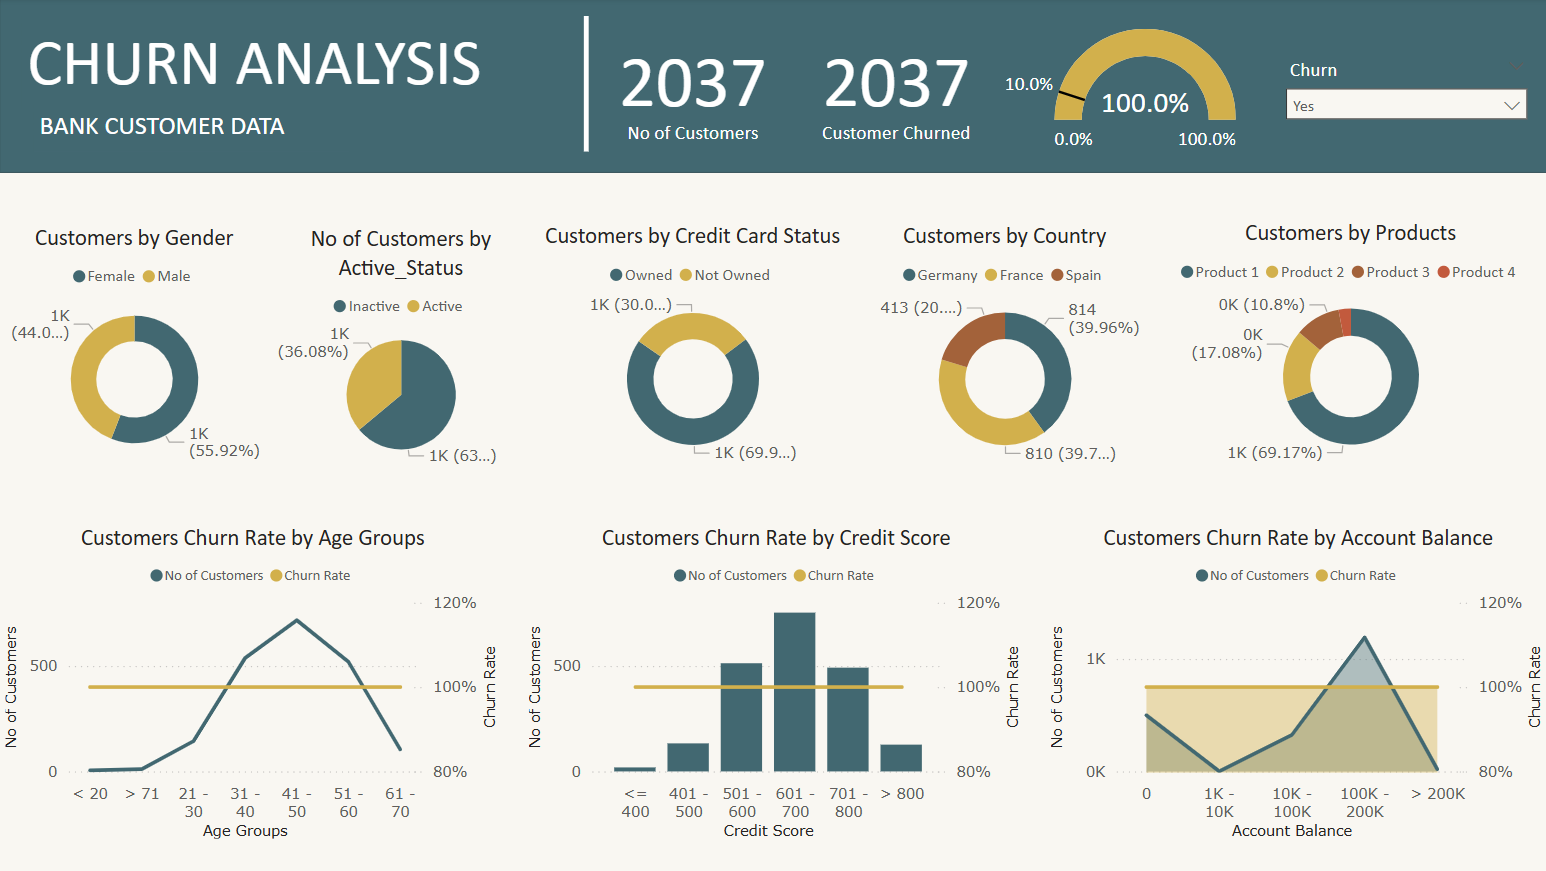

Layout of this report page (visuals, bound fields, positions):
{"tool":"powerbi","page":{"name":"Page 1","canvas":[1280,720],"ordinal":0},"visuals":[{"type":"shape","box":[0,0,1280,144.3],"z":0},{"type":"card","fields":{"Values":["Customer_Churn_Data.No of Customers"]},"box":[477.1,3.6,188.6,137.1],"z":1000},{"type":"card","fields":{"Values":["Customer_Churn_Data.Customer Churned"]},"box":[652.9,3.6,172.9,137.1],"z":2000},{"type":"donutChart","title":"Customers by Gender","fields":{"Category":["Customer_Churn_Data.Gender"],"Y":["Customer_Churn_Data.No of Customers"]},"box":[0.4,185.8,222.6,204.4],"z":3000},{"type":"pieChart","fields":{"Category":["Customer_Churn_Data.Active_Status"],"Y":["Customer_Churn_Data.No of Customers"]},"box":[220.4,186.4,222,204],"z":4000},{"type":"donutChart","title":"Customers by Country","fields":{"Y":["Customer_Churn_Data.No of Customers"],"Category":["Customer_Churn_Data.Country"]},"box":[695,184.6,268,205.9],"z":5000},{"type":"donutChart","title":"Customers by Products","fields":{"Y":["Customer_Churn_Data.No of Customers"],"Category":["Customer_Churn_Data.Products"]},"box":[953.2,182.1,321.4,207.1],"z":6000},{"type":"lineChart","title":"Customers Churn Rate by Age Groups","fields":{"Category":["Age Groups.Age Groups"],"Y2":["Customer_Churn_Data.Churn Rate"],"Y":["Customer_Churn_Data.No of Customers"]},"box":[0.1,432.7,417.9,265],"z":7000},{"type":"lineStackedColumnComboChart","title":"Customers Churn Rate by Age Groups","fields":{"Y2":["Customer_Churn_Data.Churn Rate"],"Y":["Customer_Churn_Data.No of Customers"],"Category":["Credit score Group.Credit Score"]},"box":[430.9,432.7,417.9,265],"z":8000},{"type":"areaChart","title":"Customers Churn Rate by Age Groups","fields":{"Category":["Account Balance Group.Account Balance"],"Y2":["Customer_Churn_Data.Churn Rate"],"Y":["Customer_Churn_Data.No of Customers"]},"box":[861.7,432.7,417.9,265],"z":9000},{"type":"slicer","fields":{"Values":["Customer_Churn_Data.Churn"]},"box":[1050,43.6,218.6,74.3],"z":10000},{"type":"gauge","title":"Overall Churn Rate","fields":{"Y":["Customer_Churn_Data.Churn Rate"],"TargetValue":["Max(Customer_Churn_Data.Target Churn Rate)"],"MaxValue":["Max(Customer_Churn_Data.Max Churn Rate )"],"MinValue":["Min(Customer_Churn_Data.Min Churn Rate)"]},"box":[818.6,13.6,205.7,127.1],"z":11000},{"type":"donutChart","title":"Customers by Credit Card Status","fields":{"Y":["Customer_Churn_Data.No of Customers"],"Category":["Customer_Churn_Data.Credit_Card"]},"box":[442.4,184.4,258,206],"z":12000},{"type":"textbox","box":[19,14.3,410,77.1],"z":13000},{"type":"textbox","box":[28.7,86,260,40],"z":14000},{"type":"shape","box":[465,15,38.3,111.7],"z":15000}]}

Visuals, with their boxes in screenshot pixels (x1, y1, x2, y2), scaled from the page's 1280x720 canvas onto the 1546x871 screenshot:
shape: [0, 0, 1545, 175]
card - Customer_Churn_Data.No of Customers: [576, 4, 804, 170]
card - Customer_Churn_Data.Customer Churned: [789, 4, 997, 170]
"Customers by Gender" donutChart: [0, 225, 269, 472]
pieChart - Customer_Churn_Data.Active_Status x Customer_Churn_Data.No of Customers: [266, 225, 534, 472]
"Customers by Country" donutChart: [839, 223, 1163, 472]
"Customers by Products" donutChart: [1151, 220, 1539, 471]
"Customers Churn Rate by Age Groups" lineChart: [0, 523, 505, 844]
"Customers Churn Rate by Age Groups" lineStackedColumnComboChart: [520, 523, 1025, 844]
"Customers Churn Rate by Age Groups" areaChart: [1041, 523, 1545, 844]
slicer - Customer_Churn_Data.Churn: [1268, 53, 1532, 143]
"Overall Churn Rate" gauge: [989, 16, 1237, 170]
"Customers by Credit Card Status" donutChart: [534, 223, 846, 472]
textbox: [23, 17, 518, 111]
textbox: [35, 104, 349, 152]
shape: [562, 18, 608, 153]
